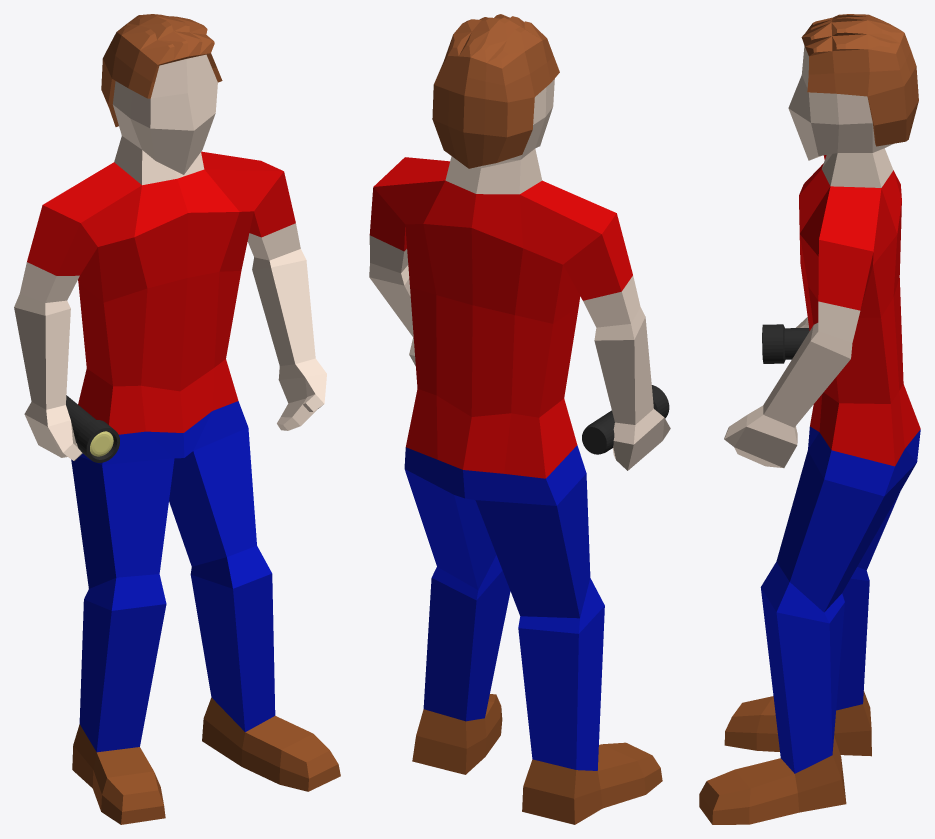
File: Human_grabbing_53.fbx
3 renders of one model, left to right at view 1: azimuth 30°, elevation 25°; view 2: azimuth 150°, elevation 25°; view 3: azimuth 270°, elevation 25°, orthographic. The views are drawn at different scales.
Visible parts, largest first — view 1: Person.003, Cylinder.002; view 2: Person.003, Cylinder.002; view 3: Person.003, Cylinder.002.
Boxes of the visible parts, x1,y1,x2,y2 form: Person.003: (14, 14, 340, 824); Cylinder.002: (66, 395, 119, 462); Person.003: (369, 14, 670, 824); Cylinder.002: (582, 385, 669, 454); Person.003: (699, 14, 920, 824); Cylinder.002: (762, 324, 809, 363).
Size of the model in its own units: 0.5858 by 1.58 by 0.4173.
